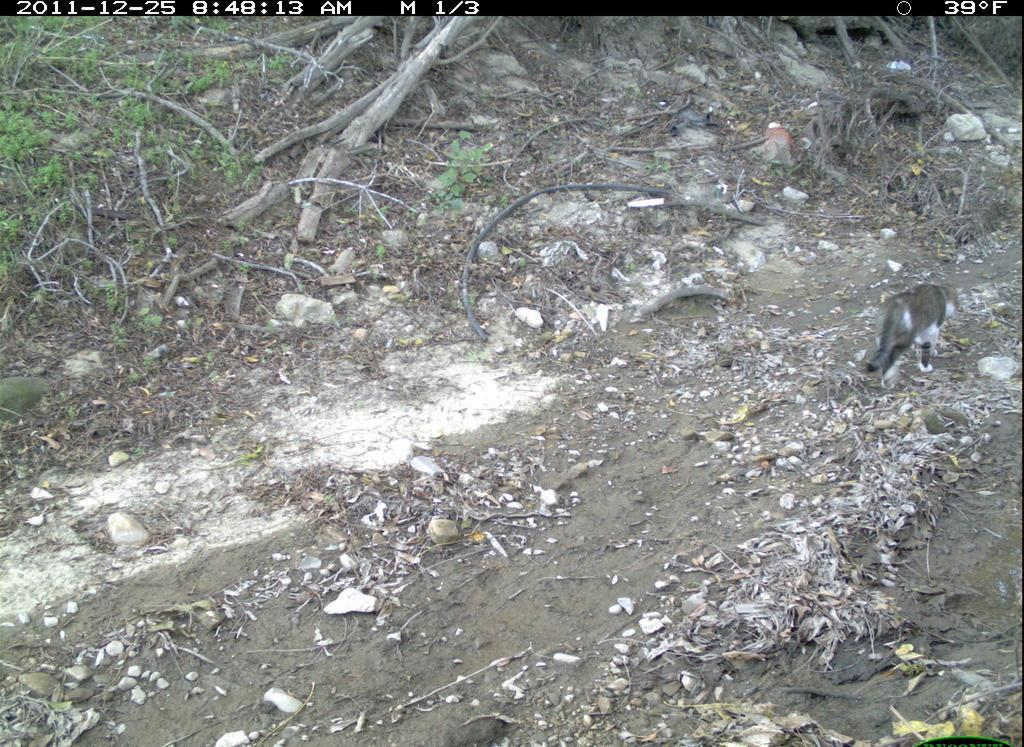cat: (853, 281, 959, 388)
